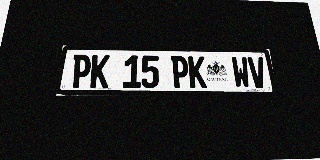1: (123, 55, 141, 88)
5: (141, 55, 159, 88)
K: (90, 55, 110, 88), (188, 56, 207, 88)
P: (70, 55, 92, 88), (171, 56, 189, 88)
V: (247, 57, 268, 88)
W: (231, 57, 251, 88)
